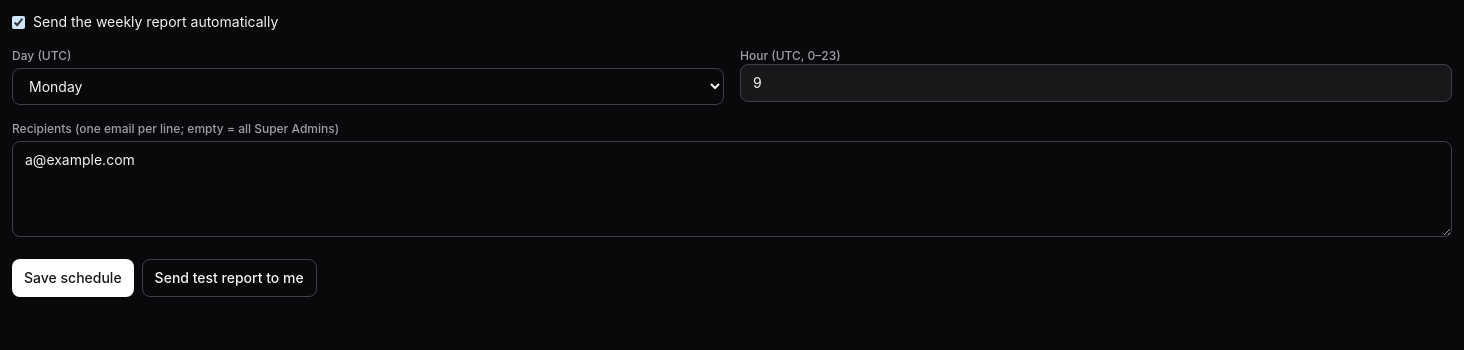
ReportScheduleForm › lists the invalid recipient addresses when the server names them (A-API-07)
This screenshot has width=1464, height=350.
Click the button "Save schedule".
click(73, 278)  # box [12,259,134,297]
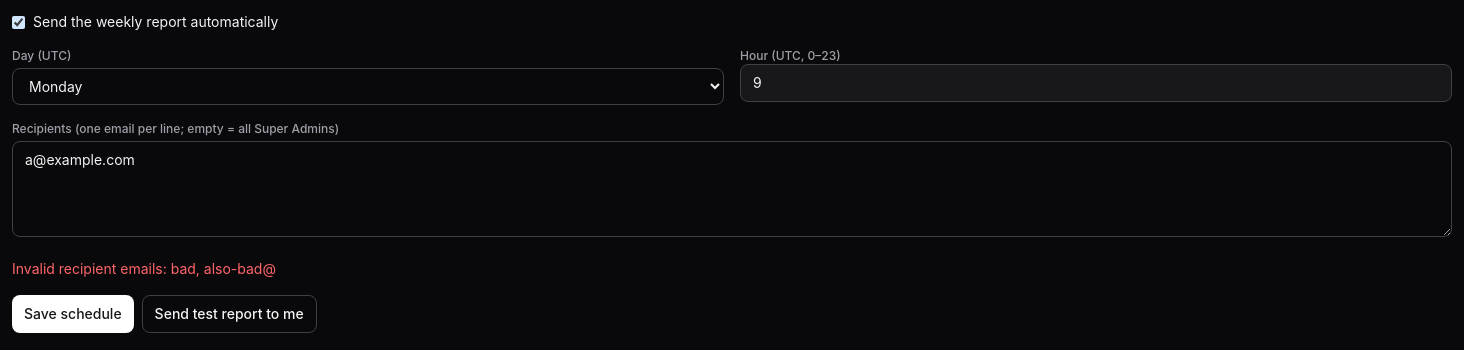
Expected: the message reads "Invalid recipient emails: bad, also-bad@", [12,260,276,277]
